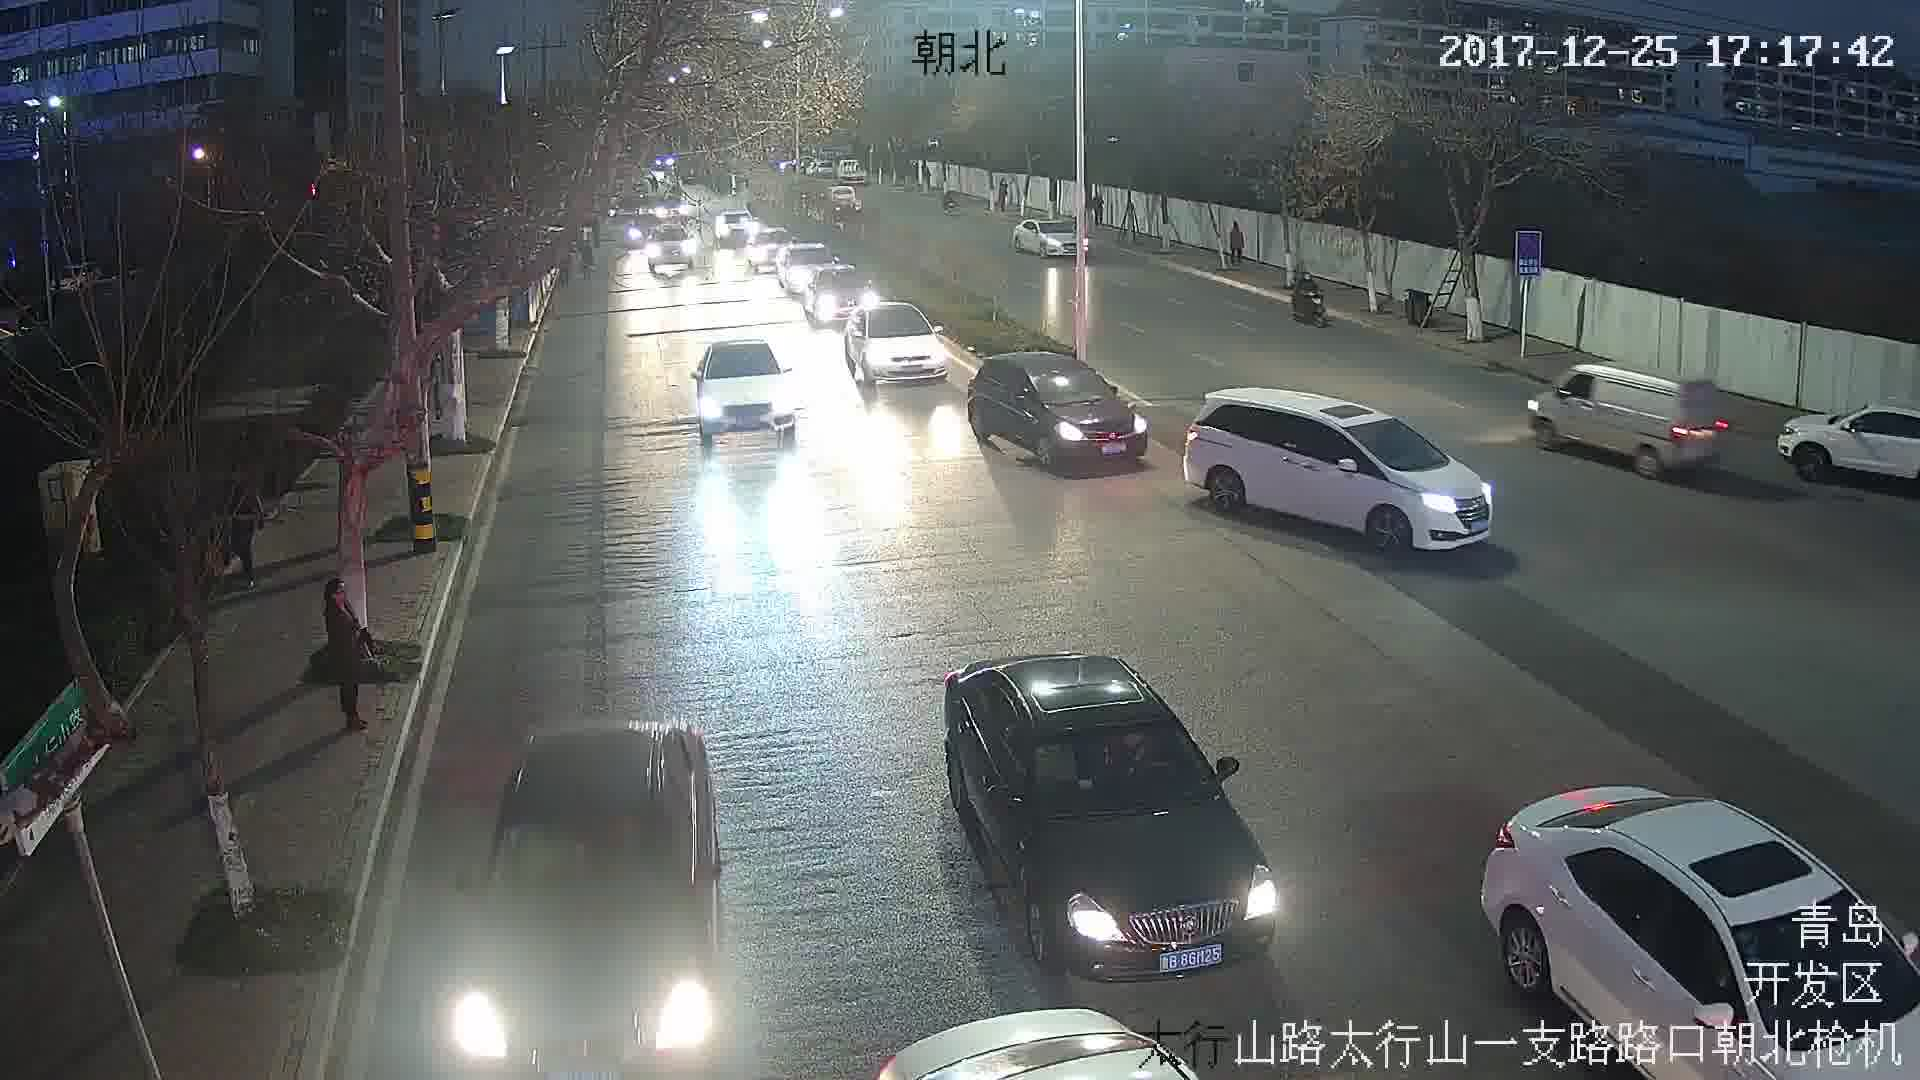car: (943, 663, 1278, 970), (475, 712, 720, 1066), (1187, 387, 1489, 555), (962, 346, 1149, 473), (1537, 369, 1732, 473), (688, 342, 798, 439), (843, 300, 952, 388), (805, 269, 871, 328), (1009, 213, 1095, 257)
person: (313, 580, 375, 730), (1230, 223, 1249, 267), (1293, 270, 1316, 305)
